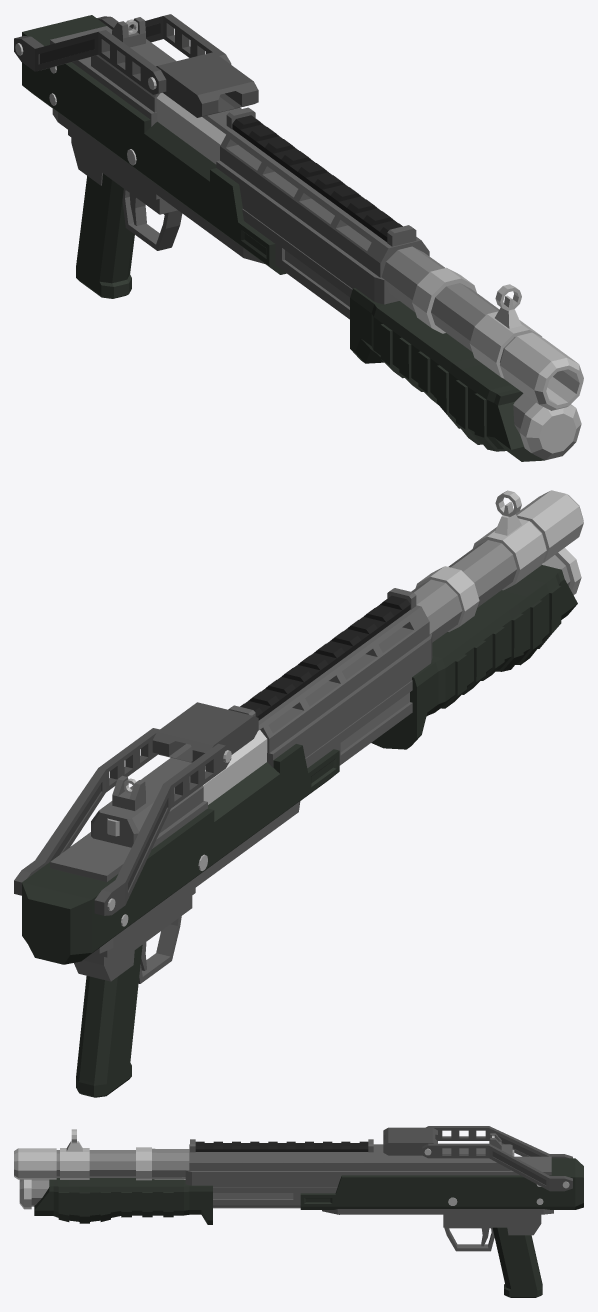
The model's file is AsimovShotgun.fbx.
3 views of the same model, one above another, from view 1: azimuth 30°, elevation 25°; view 2: azimuth 150°, elevation 25°; view 3: azimuth 270°, elevation 25° (orthographic). The views are drawn at different scales.
Parts seen in each view (by area): view 1: AsmiovShotgun; view 2: AsmiovShotgun; view 3: AsmiovShotgun.
Part boxes in pixels (bbox=[...]): AsmiovShotgun: bbox=[14, 14, 583, 461]; AsmiovShotgun: bbox=[14, 490, 583, 1097]; AsmiovShotgun: bbox=[14, 1126, 583, 1297].
Bounding box in the file's own units: 27.7 × 83.25 × 262.
